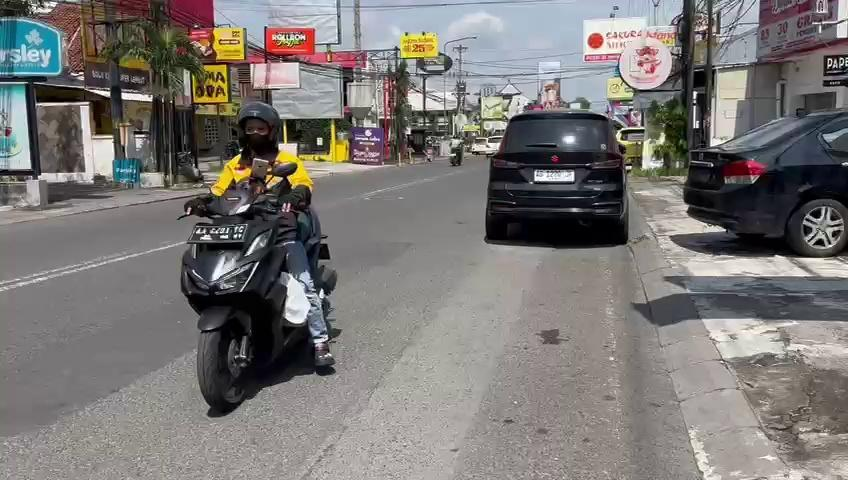helm: (235, 100, 282, 156)
riding: (176, 99, 341, 415)
